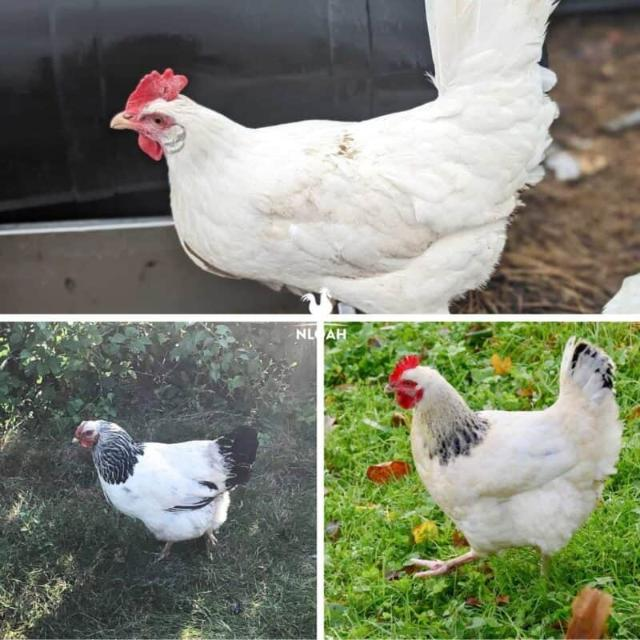Chicken: (108, 0, 558, 322), (381, 337, 625, 580), (71, 416, 258, 562)
